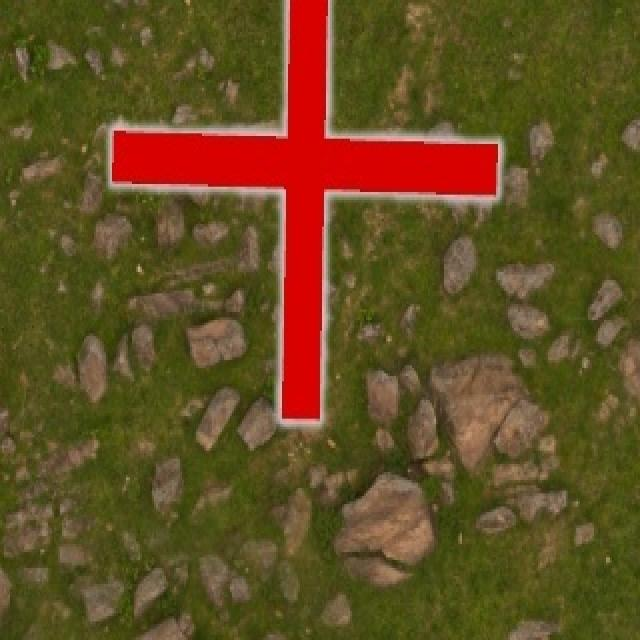x_marker: (111, 0, 499, 419)
